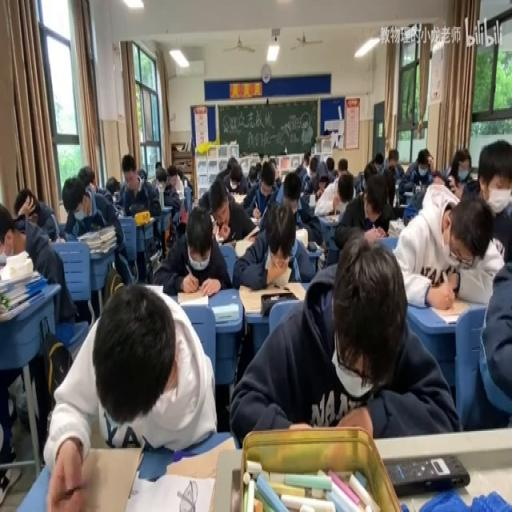calculator: (125, 469, 214, 512), (163, 434, 234, 480), (0, 258, 49, 322), (238, 280, 305, 313), (426, 297, 470, 323), (212, 302, 238, 324), (53, 320, 75, 346), (374, 232, 400, 253), (176, 290, 209, 304), (294, 224, 308, 248), (139, 282, 165, 294), (148, 248, 161, 270), (137, 213, 157, 226), (386, 218, 402, 234), (231, 192, 247, 205), (323, 214, 340, 224), (249, 216, 260, 225), (403, 191, 415, 199), (54, 235, 66, 243), (309, 194, 315, 206)
paper: (232, 240, 454, 444), (43, 279, 214, 509), (390, 179, 502, 307), (65, 174, 132, 290), (231, 196, 314, 289), (152, 203, 230, 296), (332, 168, 398, 250), (11, 186, 59, 245), (121, 153, 160, 222), (242, 159, 278, 219), (398, 146, 434, 204), (444, 148, 472, 196), (220, 155, 246, 195), (77, 165, 97, 196), (296, 155, 312, 192), (336, 174, 354, 204), (282, 175, 300, 205), (104, 175, 120, 200), (430, 168, 452, 186), (363, 162, 378, 186), (325, 156, 338, 182), (386, 148, 400, 171), (172, 165, 186, 186), (154, 166, 166, 190), (354, 170, 364, 194), (112, 199, 125, 215), (337, 156, 347, 174), (267, 155, 277, 171), (373, 152, 383, 168), (254, 160, 262, 178), (309, 160, 318, 176), (136, 168, 146, 180), (248, 176, 258, 188), (182, 175, 191, 188), (274, 175, 282, 188), (428, 155, 434, 171), (154, 161, 160, 169)
person: (386, 452, 470, 496), (396, 204, 409, 218), (308, 240, 318, 252)
